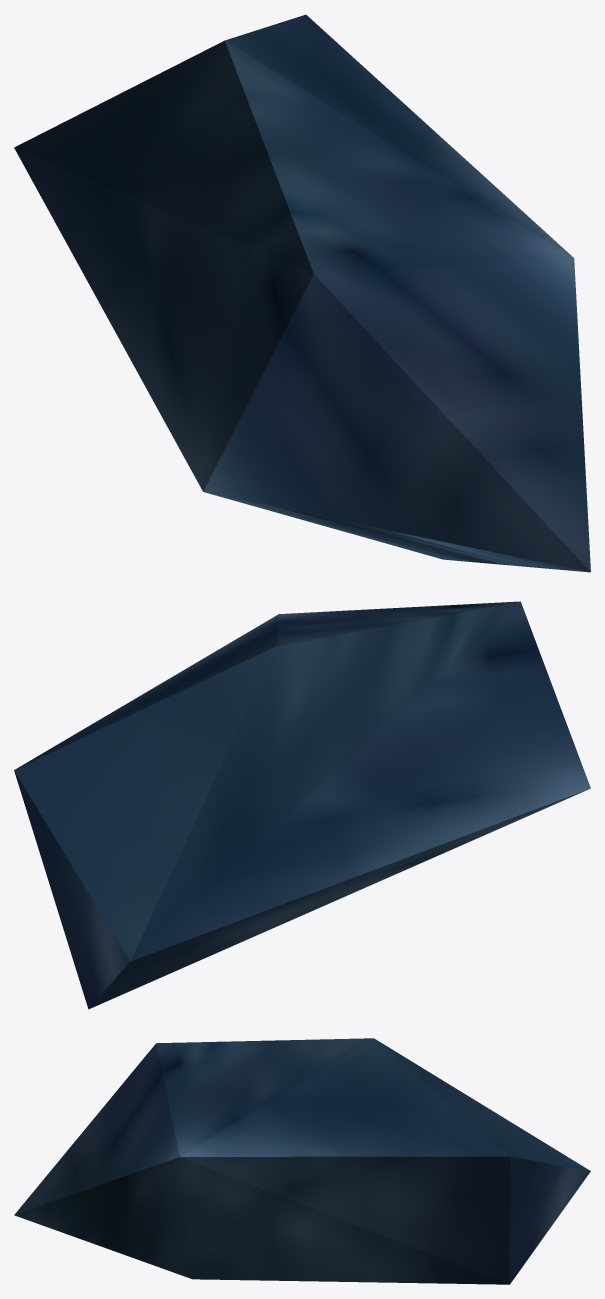
The model's file is StoneCoffin02.glb.
3 renders of one model, top to bottom at view 1: azimuth 30°, elevation 25°; view 2: azimuth 150°, elevation 25°; view 3: azimuth 270°, elevation 25°, orthographic. The views are drawn at different scales.
Visible parts, largest first — view 1: model_StoneCoffin02; view 2: model_StoneCoffin02; view 3: model_StoneCoffin02.
Part boxes in pixels (left/top/right/bottom): model_StoneCoffin02: left=14, top=14, right=590, bottom=572; model_StoneCoffin02: left=14, top=601, right=590, bottom=1009; model_StoneCoffin02: left=14, top=1038, right=590, bottom=1284.
Size of the model in its own units: 0.1546 by 0.1471 by 0.3393.
Materials: 1 (1 with a texture image).
